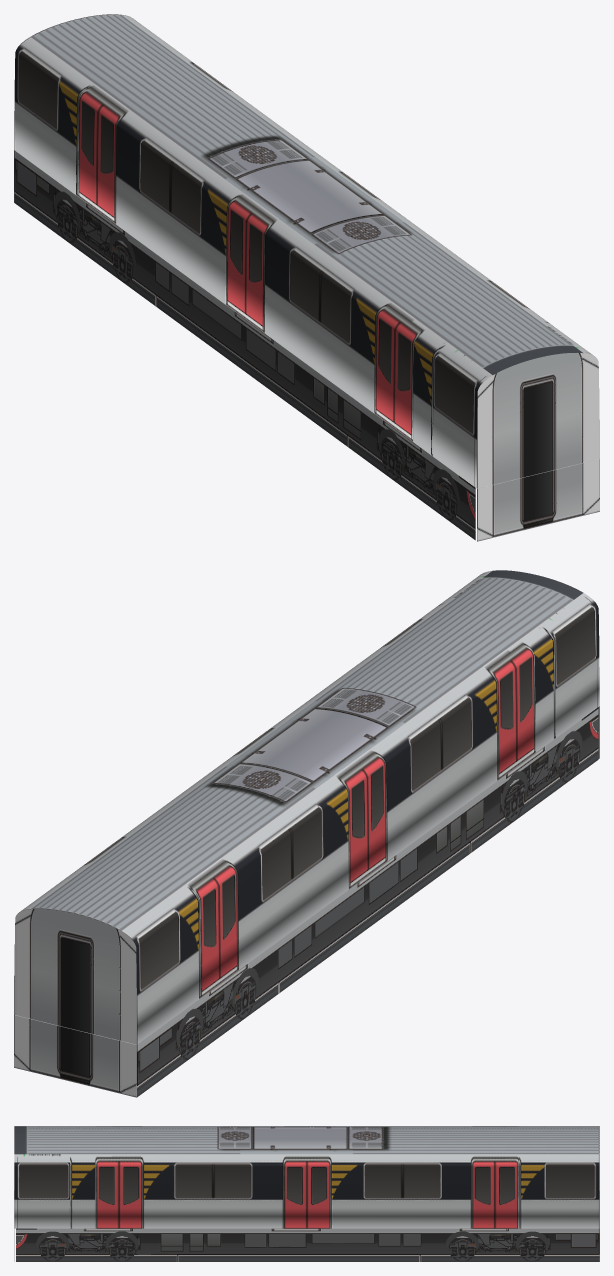
The model's file is car8.glb.
The picture shows the model from 3 angles, top to bottom: view 1: azimuth 30°, elevation 25°; view 2: azimuth 150°, elevation 25°; view 3: azimuth 270°, elevation 25°; orthographic projection. The views are drawn at different scales.
Visible parts, largest first — view 1: toei-5500-car8; view 2: toei-5500-car8; view 3: toei-5500-car8.
Part boxes in pixels (left/top/right/bottom): toei-5500-car8: left=14, top=14, right=599, bottom=541; toei-5500-car8: left=14, top=570, right=599, bottom=1097; toei-5500-car8: left=14, top=1126, right=599, bottom=1261.
Size of the model in its own units: 2.76 by 3.62 by 18.03.
Materials: 7 (6 with a texture image).
